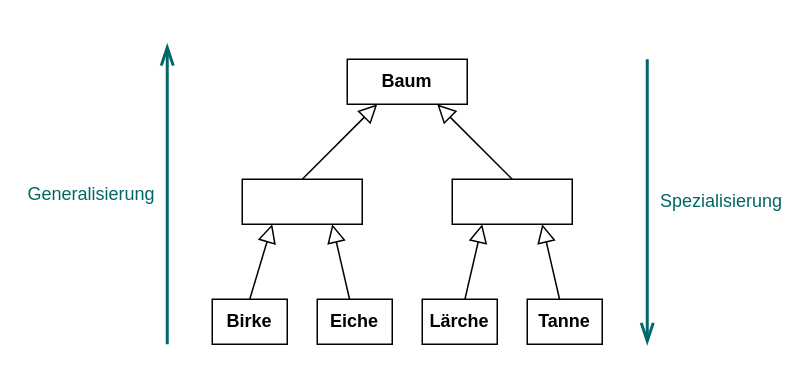
Image size: 807x389. Some labels were removed from this diagram. The shapes that lost their labels are listed below. From the top down, each one's centre as x and y in pixels, then its label:
At point 301,201: "Laubbaum".
At point 511,201: "Nadelbaum".
